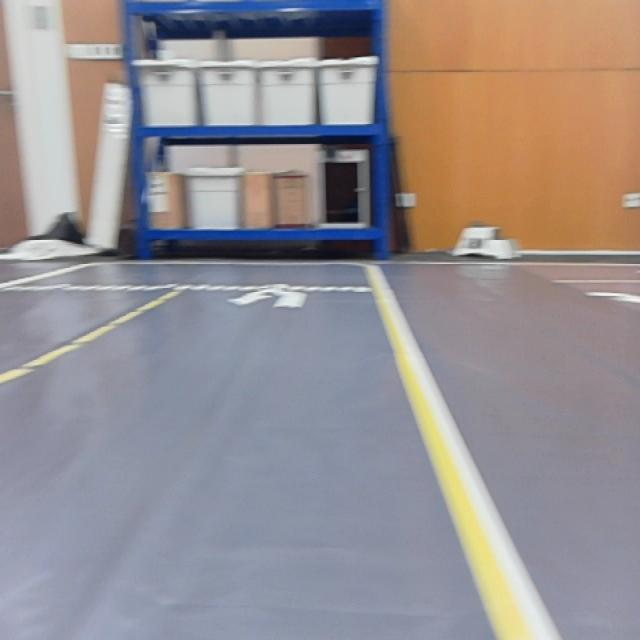left_lane: (0, 288, 180, 390)
right_lane: (365, 269, 556, 640), (0, 260, 88, 292)
